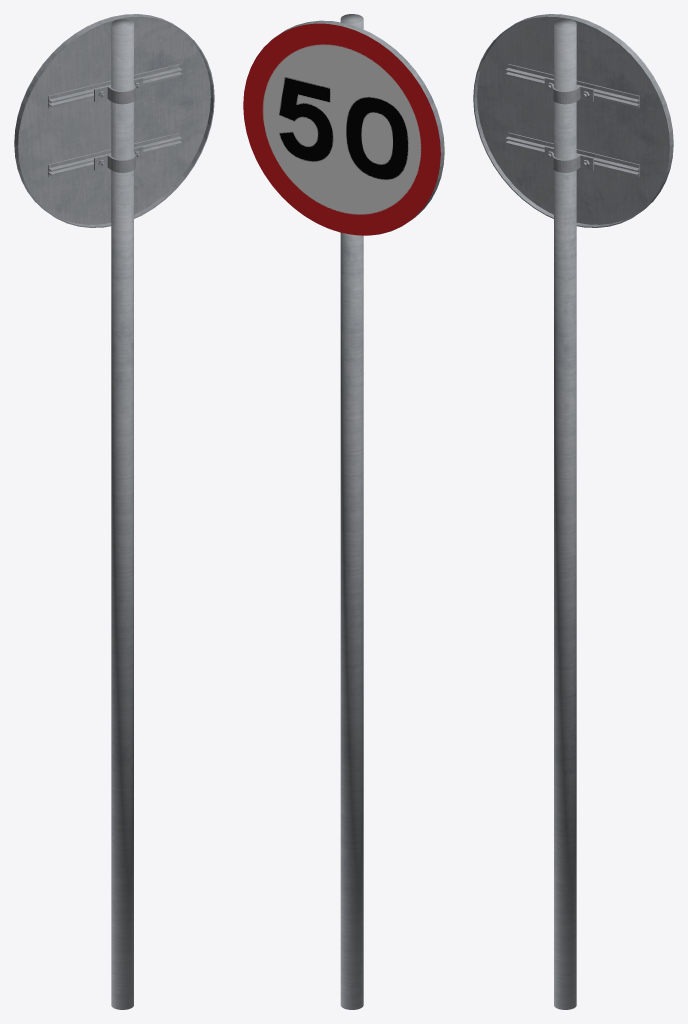
Rendered from Speed_limit_50mph.fbx.
3 renders of one model, left to right at view 1: azimuth 30°, elevation 25°; view 2: azimuth 150°, elevation 25°; view 3: azimuth 330°, elevation 25°, orthographic.
Parts seen in each view (by area): view 1: Speed limit 50mph; view 2: Speed limit 50mph; view 3: Speed limit 50mph.
Boxes of the visible parts, <box> form: Speed limit 50mph: <box>14,14,214,1009</box>; Speed limit 50mph: <box>243,14,444,1009</box>; Speed limit 50mph: <box>473,14,673,1009</box>.
Size of the model in its own units: 0.0876 by 0.6 by 2.86.
